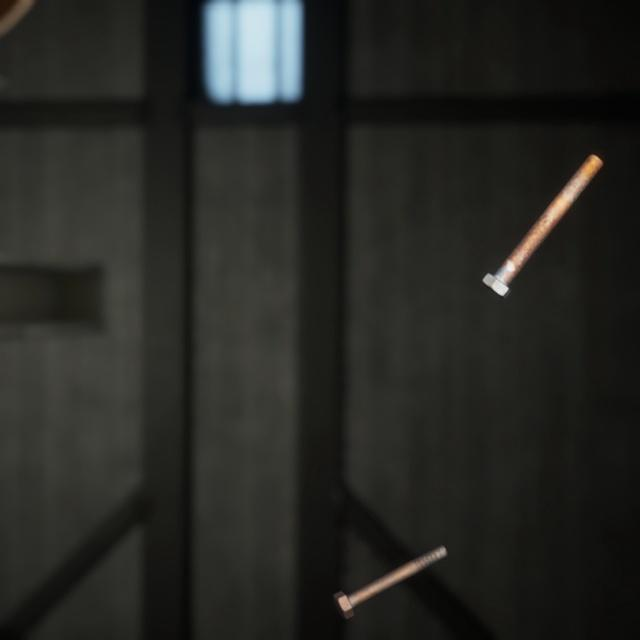bolt: (477, 134, 607, 287), (328, 518, 452, 601)
